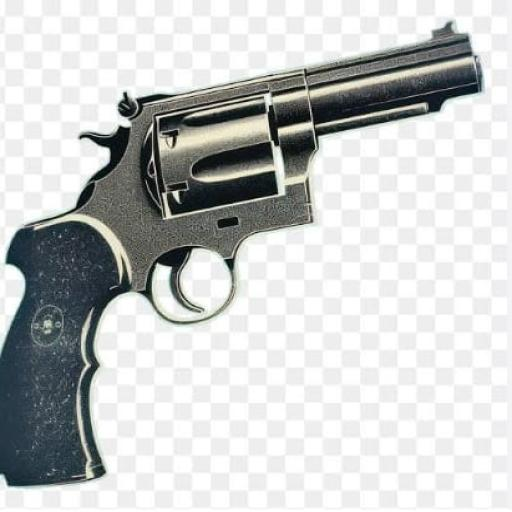Gun: (0, 23, 480, 484)
